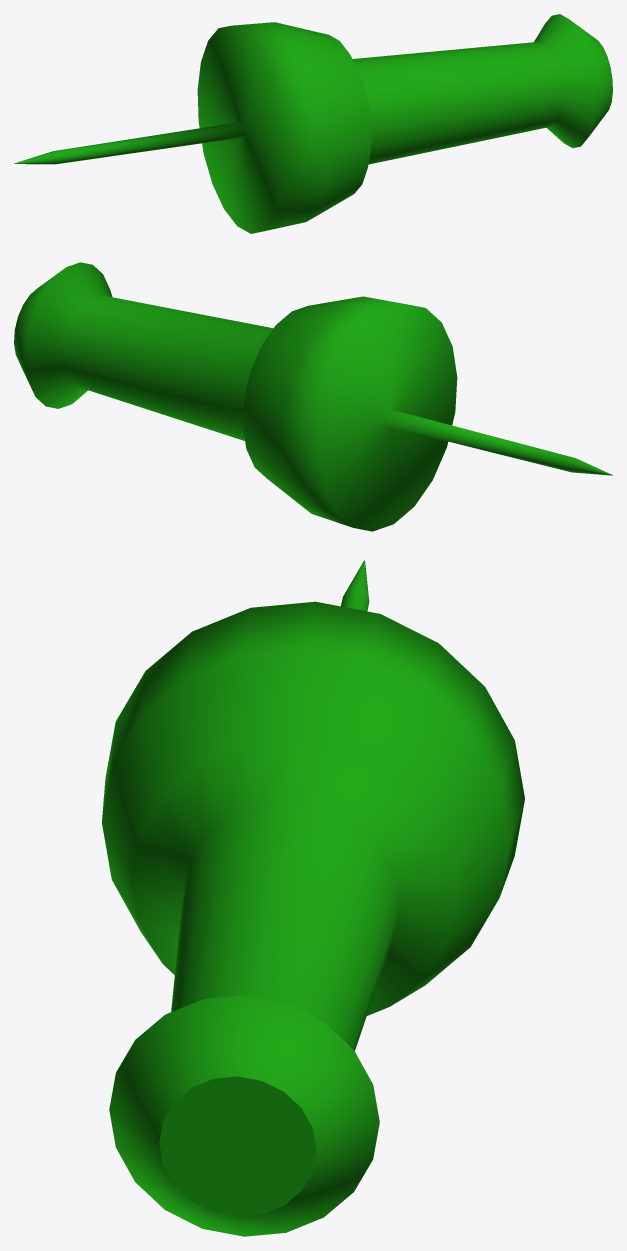
The model's file is pushpin.fbx.
3 renders of one model, top to bottom at view 1: azimuth 30°, elevation 25°; view 2: azimuth 150°, elevation 25°; view 3: azimuth 270°, elevation 25°, orthographic. The views are drawn at different scales.
Visible parts, largest first — view 1: Pushpin3; view 2: Pushpin3; view 3: Pushpin3.
Boxes of the visible parts, x1,y1,x2,y2 form: Pushpin3: (14, 14, 612, 233); Pushpin3: (14, 262, 612, 531); Pushpin3: (102, 560, 524, 1236).
Bounding box in the file's own units: 0.0486 × 0.016 × 0.016.
